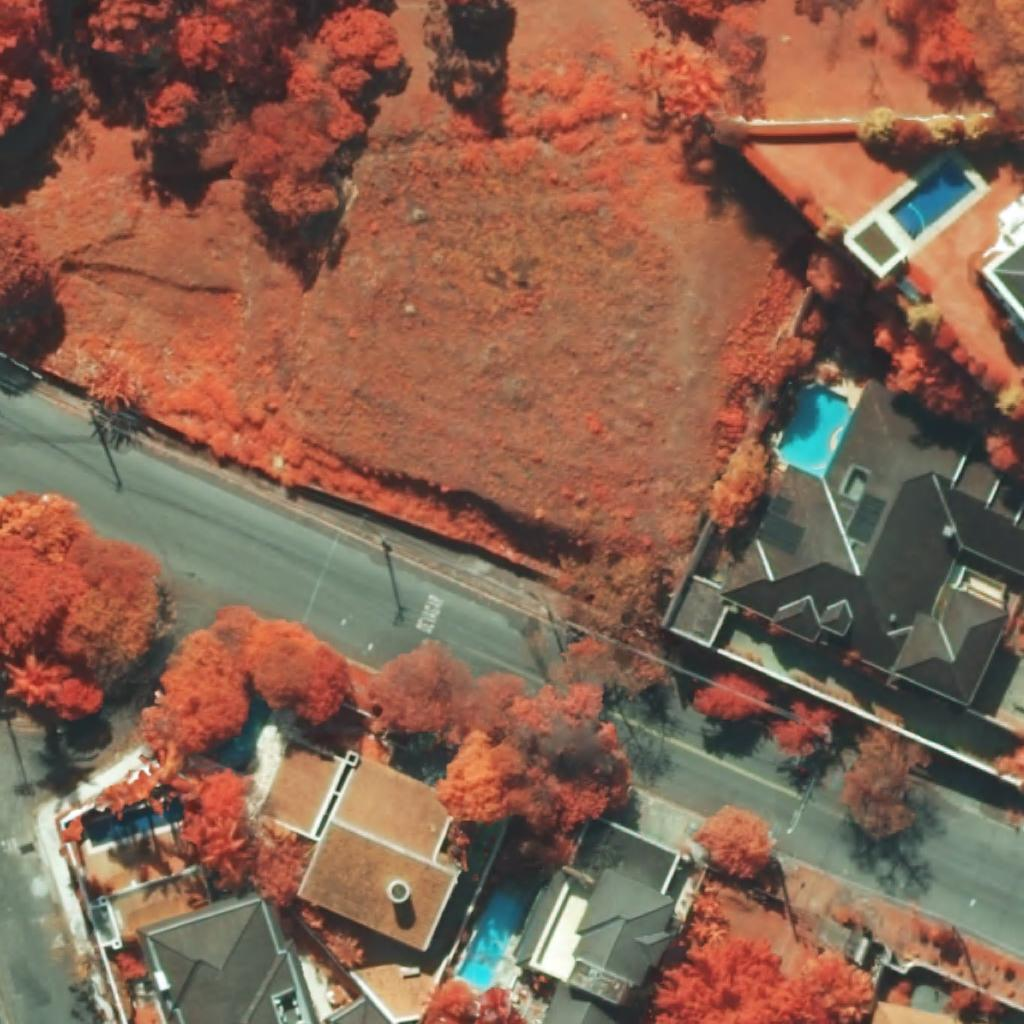pool: (888, 158, 977, 241), (777, 385, 854, 479), (457, 889, 527, 990), (87, 801, 183, 848)
